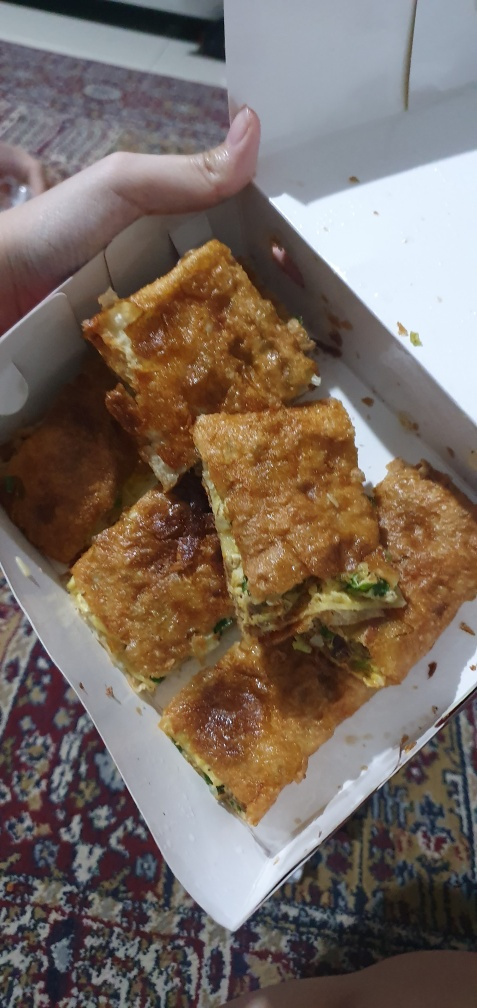martabak telor: (185, 401, 405, 621), (72, 234, 318, 427)
